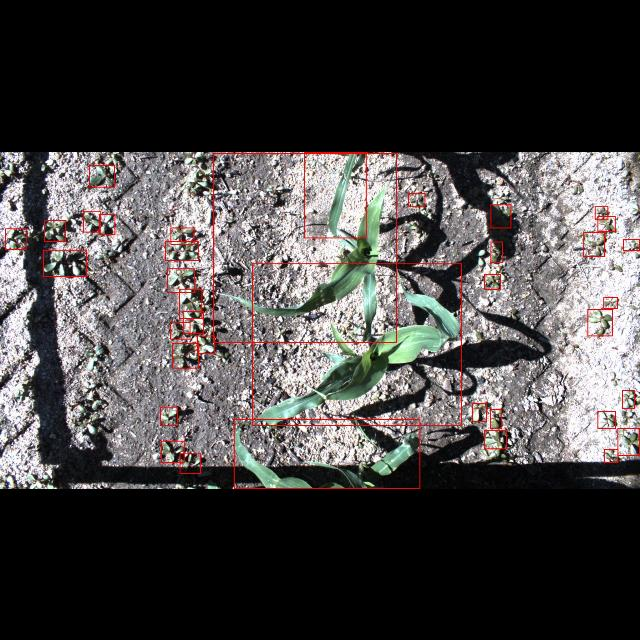crop: (214, 152, 396, 342), (253, 263, 462, 425), (234, 418, 420, 488), (304, 151, 366, 237)
weed: (44, 250, 86, 276), (172, 342, 198, 368), (180, 288, 202, 318), (168, 268, 195, 292), (166, 240, 198, 260), (588, 309, 612, 335), (618, 428, 638, 456), (90, 164, 114, 186), (162, 440, 184, 462), (584, 231, 604, 255), (44, 220, 66, 240), (183, 311, 203, 333), (491, 204, 511, 226), (484, 429, 506, 448), (6, 228, 26, 248), (180, 453, 200, 473), (170, 227, 193, 243), (84, 210, 100, 232), (197, 335, 215, 353), (160, 407, 178, 425), (99, 213, 115, 233), (170, 322, 190, 338), (598, 412, 616, 428), (472, 402, 486, 422), (491, 240, 503, 262), (490, 408, 502, 428), (622, 389, 634, 408), (598, 216, 614, 230), (484, 274, 500, 288), (409, 192, 425, 205), (594, 205, 608, 219), (623, 238, 639, 250), (604, 450, 618, 462), (604, 296, 618, 308)
